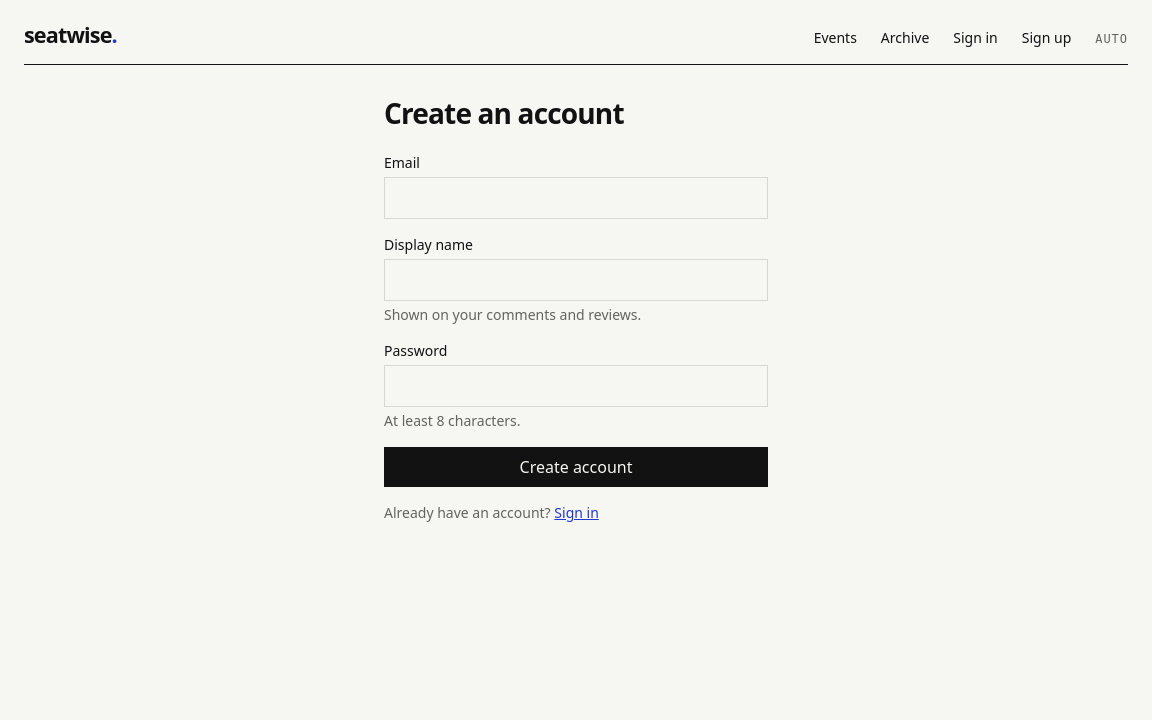
it: register page › applies the same field rules as the backend
In the field labelled "Email": (576, 198) [384, 178, 768, 220], type "not-an-email"
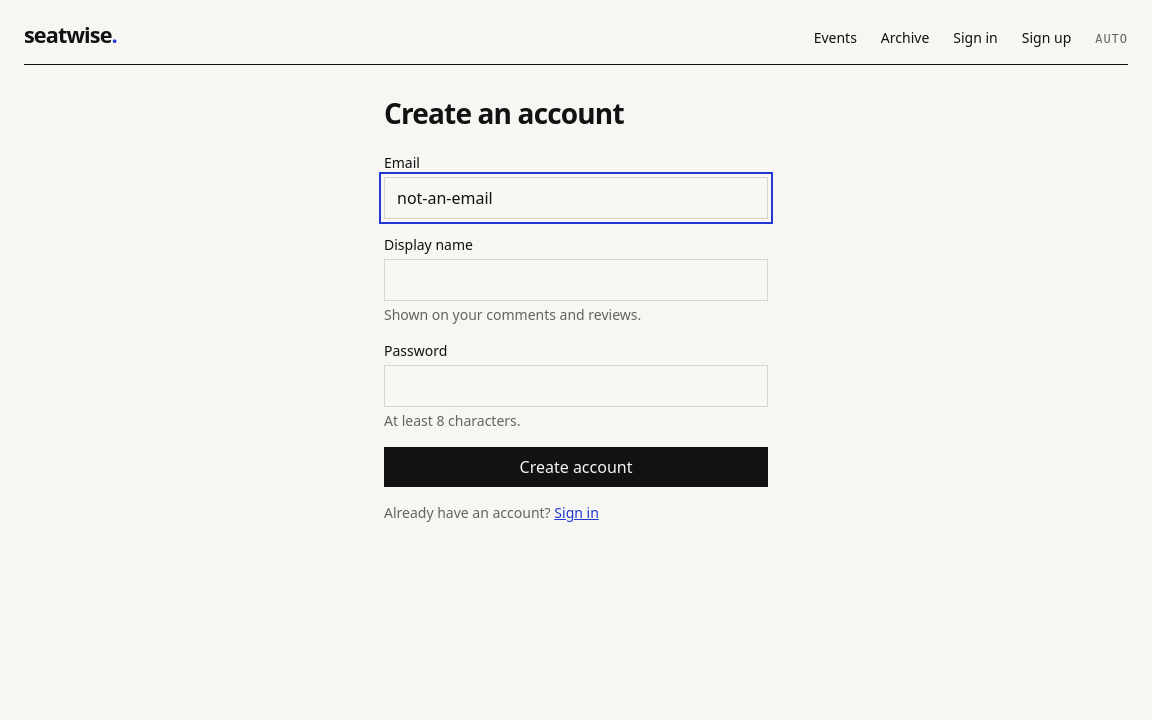
In the field labelled "Display name": (576, 280) [384, 260, 768, 302], type "A"
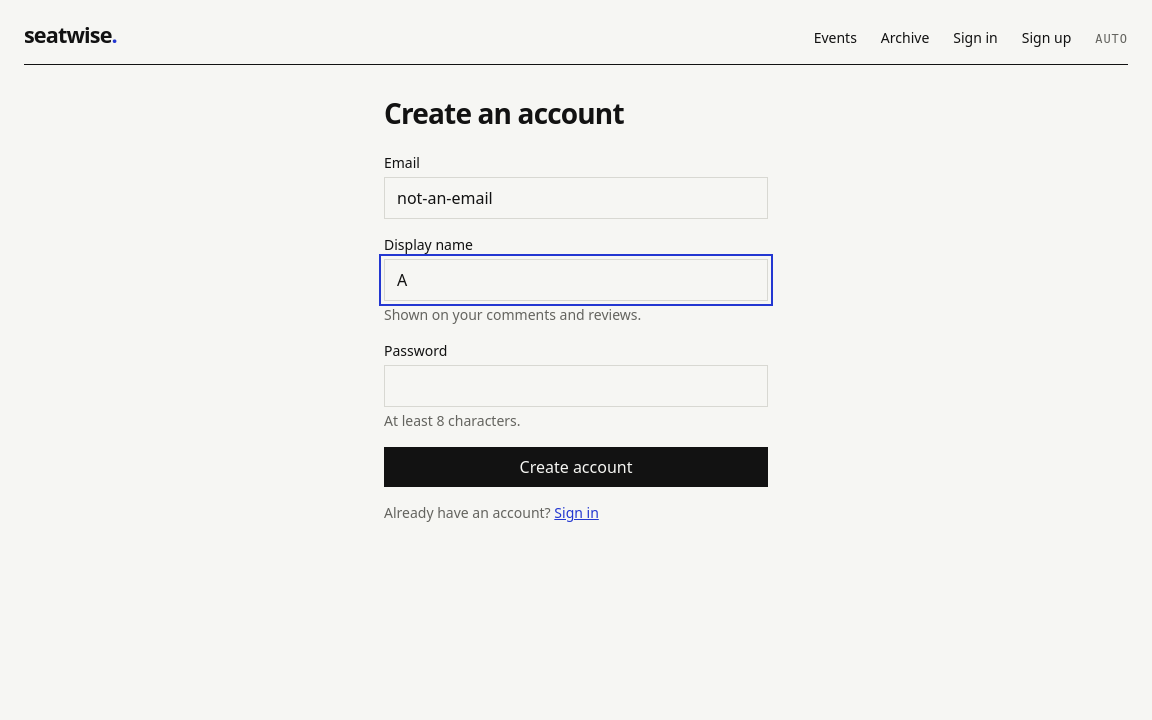
In the password field labelled "Password": (576, 386) [384, 366, 768, 408], type "short"
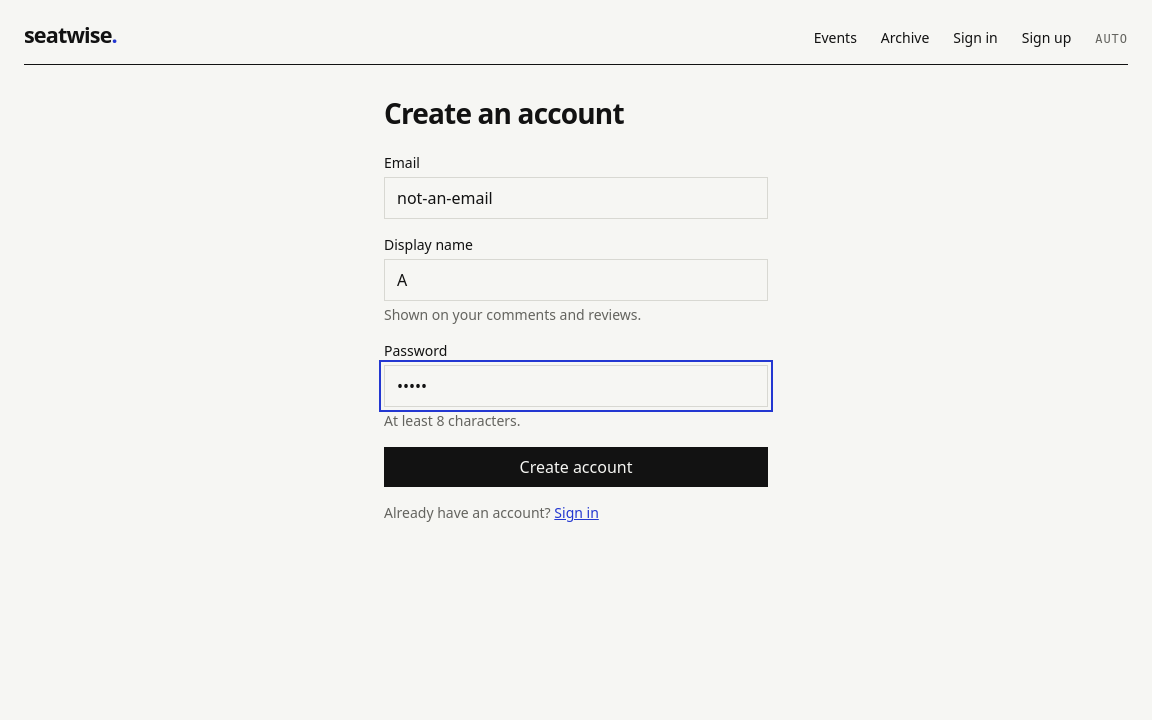
Click the button "Create account": click(576, 468) [384, 448, 768, 488]
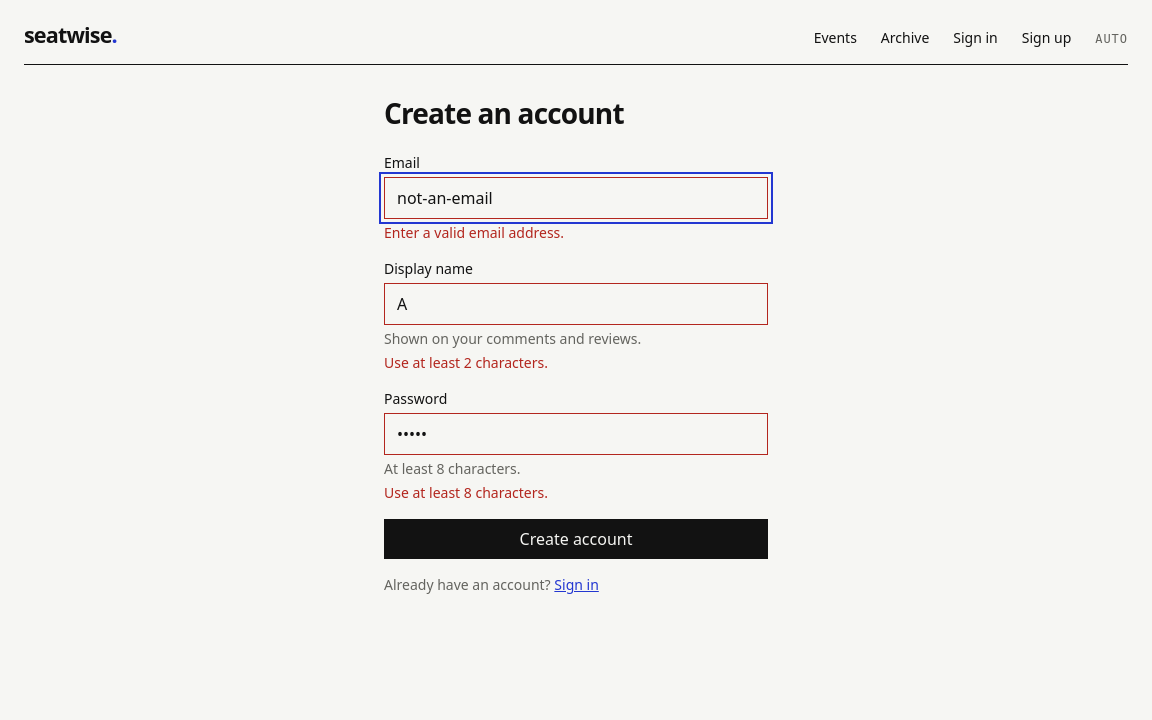
Result: the text "Enter a valid email address." is shown at [384, 224, 564, 242]
Result: the text "Use at least 2 characters." is shown at [384, 354, 548, 372]
Result: the text "Use at least 8 characters." is shown at [384, 484, 548, 502]
